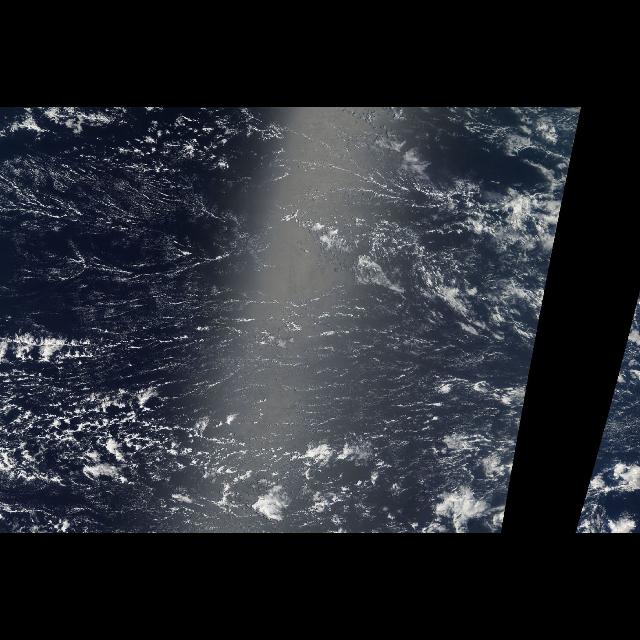Fish: (1, 364, 402, 500)
Gravel: (1, 323, 318, 531)
Sugar: (1, 152, 465, 420)
